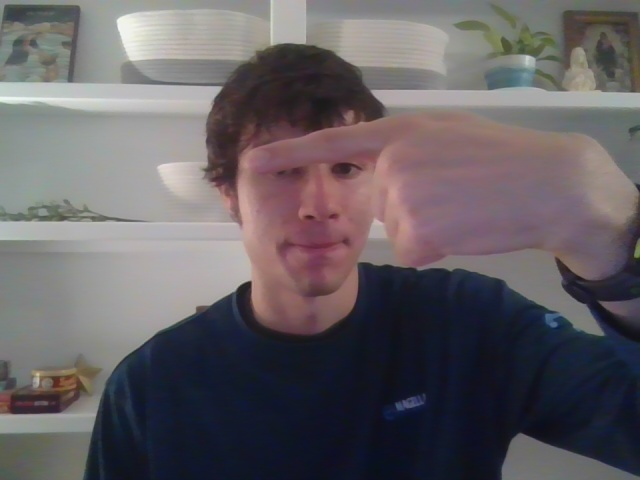g: (246, 118, 600, 265)
